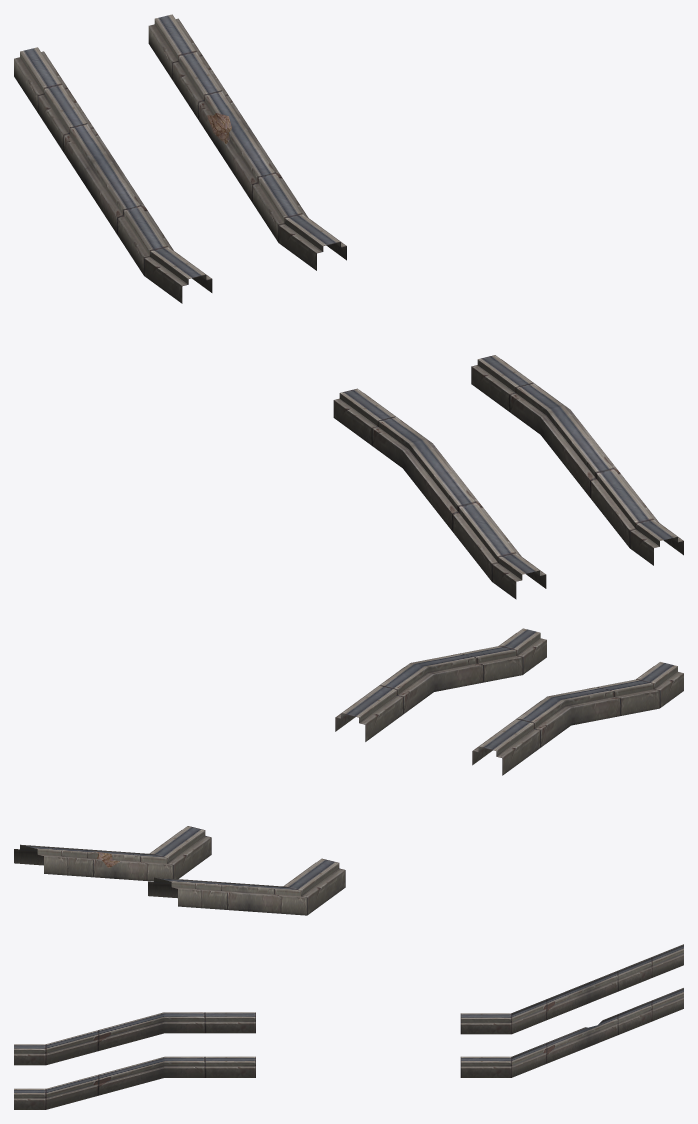
Rendered from zw_hulan.FBX.
3 views of the same model, one above another, from view 1: azimuth 30°, elevation 25°; view 2: azimuth 150°, elevation 25°; view 3: azimuth 270°, elevation 25° (orthographic). The views are drawn at different scales.
Visible parts, largest first — view 1: zw_hulan; view 2: zw_hulan; view 3: zw_hulan.
Boxes of the visible parts, bbox=[...] form: zw_hulan: bbox=[14, 14, 683, 599]; zw_hulan: bbox=[14, 628, 683, 915]; zw_hulan: bbox=[14, 944, 683, 1109].
Size of the model in its own units: 1037 by 1039 by 5410.
